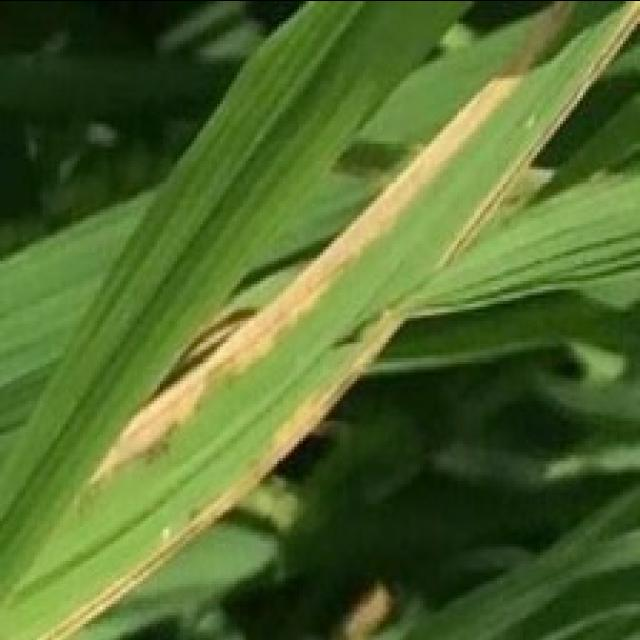Unhealthy: (85, 76, 526, 485), (30, 346, 380, 640), (437, 0, 640, 263)
